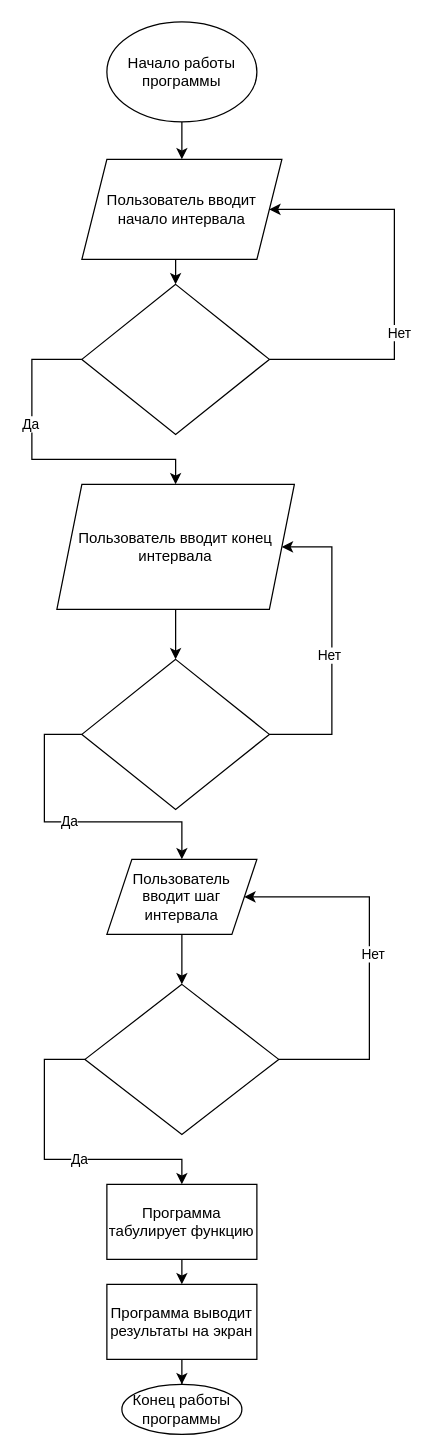
Image size: 433x1456. Some labels were removed from this diagram. Each missing label, with the box of its shape:
Конец интервала больше начала?: (81, 658, 269, 809)
Пользователь ввел число?: (81, 283, 269, 434)
Шаг является положительным числом?: (84, 983, 279, 1134)
